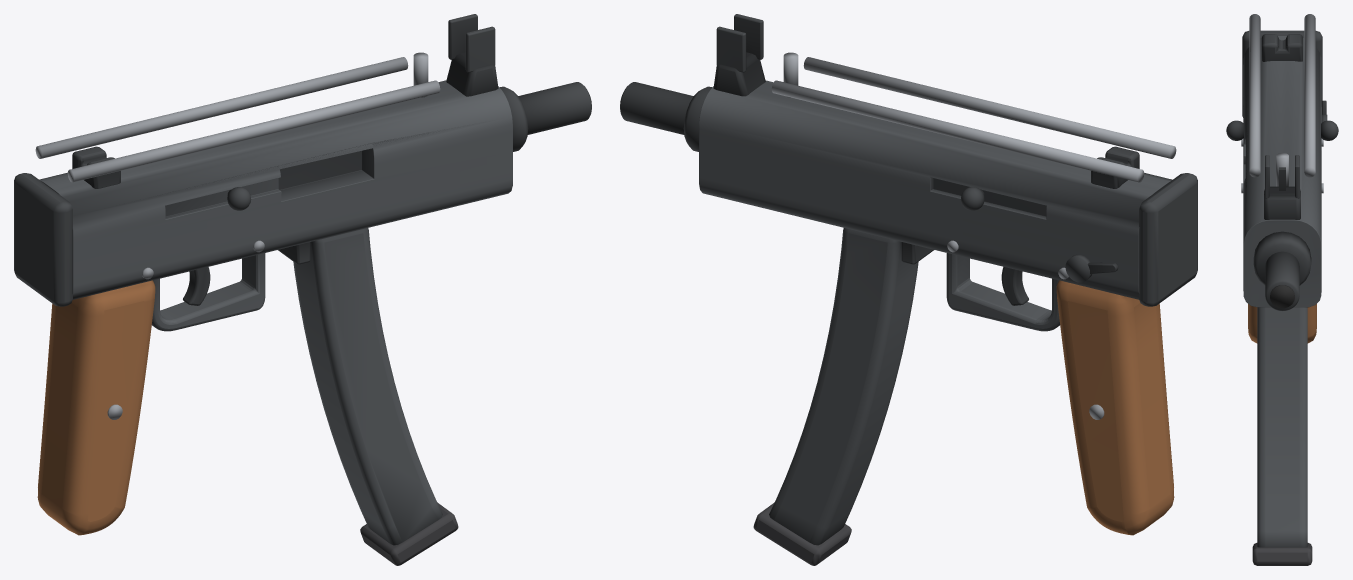
The picture shows the model from 3 angles, left to right: view 1: azimuth 30°, elevation 25°; view 2: azimuth 150°, elevation 25°; view 3: azimuth 270°, elevation 25°; orthographic projection. The views are drawn at different scales.
Parts seen in each view (by area): view 1: receiver, mag, grip_part, end_cap, wire-1, wire1, guard, barrel, mag_floor, front_sight, fs_ear-1, rear_sight (+3 smaller); view 2: receiver, mag, grip_part, end_cap, wire1, wire-1, guard, barrel, mag_floor, front_sight, fs_ear1, rear_sight (+3 smaller); view 3: mag, receiver, wire1, wire-1, barrel_nut, barrel, mag_floor, front_sight, rear_sight, end_cap, grip_part, bore (+6 smaller).
Part boxes in pixels (bbox=[...]): receiver: bbox=[39, 80, 512, 299]; mag: bbox=[293, 228, 442, 545]; grip_part: bbox=[37, 280, 155, 535]; end_cap: bbox=[14, 173, 72, 306]; wire-1: bbox=[67, 80, 440, 182]; wire1: bbox=[35, 57, 408, 158]; guard: bbox=[152, 253, 265, 331]; barrel: bbox=[518, 82, 591, 134]; mag_floor: bbox=[360, 502, 458, 565]; front_sight: bbox=[446, 52, 498, 96]; fs_ear-1: bbox=[465, 26, 495, 72]; rear_sight: bbox=[72, 146, 120, 188]; receiver: bbox=[699, 80, 1172, 299]; mag: bbox=[769, 228, 918, 545]; grip_part: bbox=[1056, 280, 1174, 535]; end_cap: bbox=[1139, 173, 1197, 306]; wire1: bbox=[771, 80, 1144, 182]; wire-1: bbox=[803, 57, 1176, 158]; guard: bbox=[946, 253, 1059, 331]; barrel: bbox=[620, 82, 693, 134]; mag_floor: bbox=[753, 502, 851, 565]; front_sight: bbox=[713, 52, 765, 96]; fs_ear1: bbox=[716, 26, 746, 72]; rear_sight: bbox=[1091, 146, 1139, 188]; mag: bbox=[1257, 307, 1307, 547]; receiver: bbox=[1243, 36, 1321, 307]; wire1: bbox=[1304, 14, 1315, 177]; wire-1: bbox=[1249, 14, 1260, 177]; barrel_nut: bbox=[1253, 231, 1311, 285]; barrel: bbox=[1265, 251, 1299, 310]; mag_floor: bbox=[1252, 543, 1312, 565]; front_sight: bbox=[1264, 186, 1300, 219]; rear_sight: bbox=[1262, 34, 1302, 61]; end_cap: bbox=[1242, 30, 1322, 117]; grip_part: bbox=[1248, 304, 1316, 343]; bore: bbox=[1270, 285, 1294, 308].
Size of the model in its own units: 0.2377 by 0.2101 by 0.049.
